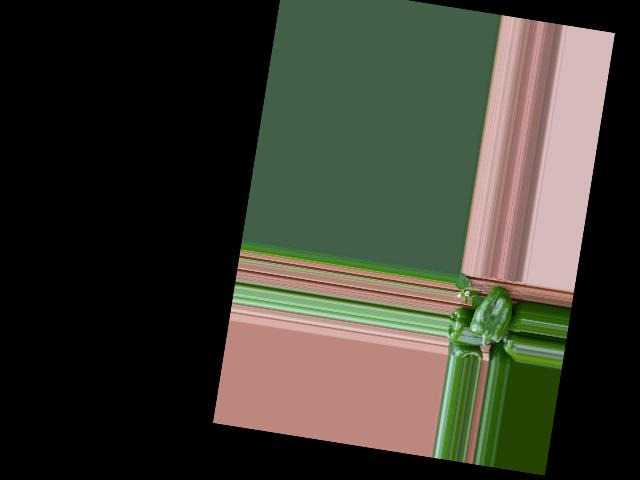bell_pepper: (498, 334, 520, 362)
